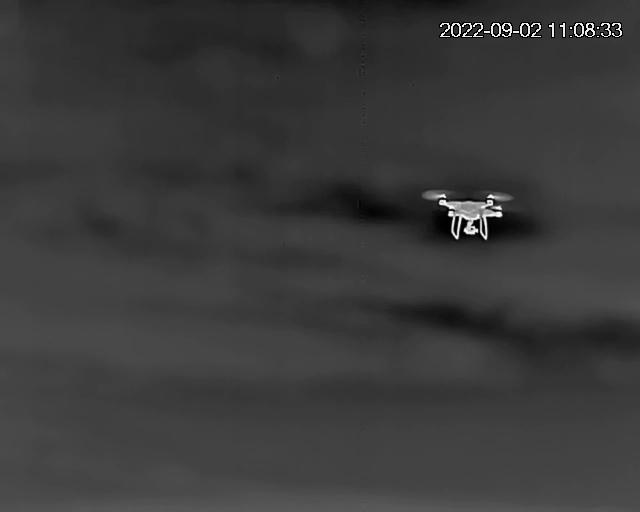DJI-Phantom: (420, 186, 513, 242)
